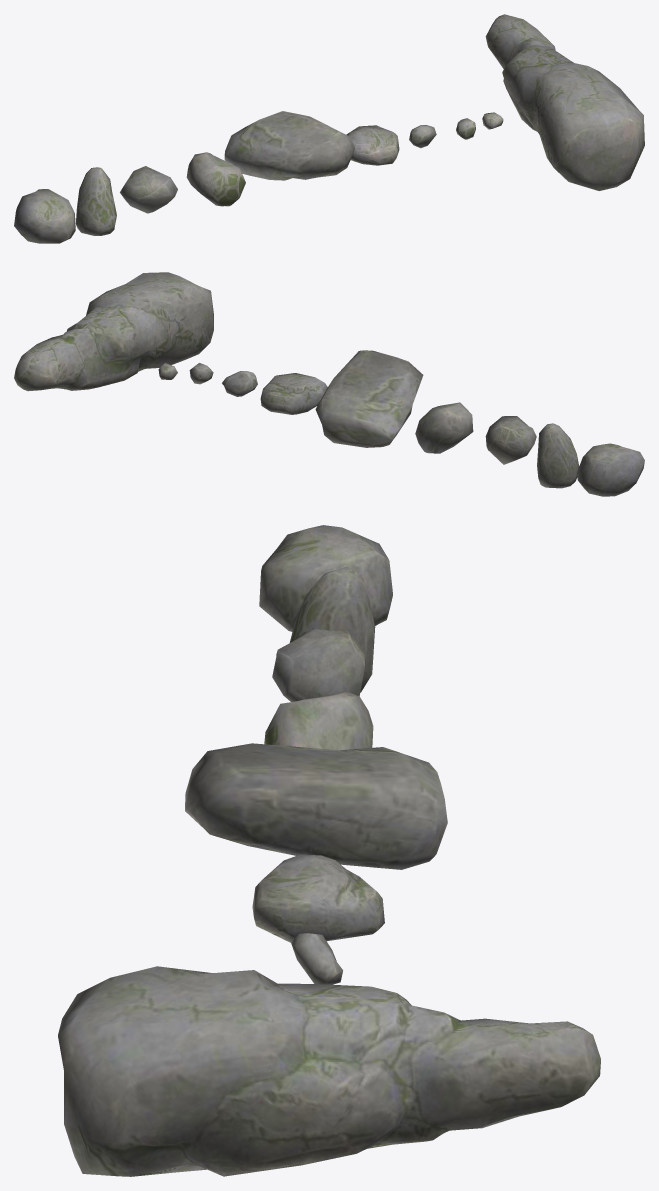
The model's file is p_shitou.fbx.
The picture shows the model from 3 angles, top to bottom: view 1: azimuth 30°, elevation 25°; view 2: azimuth 150°, elevation 25°; view 3: azimuth 270°, elevation 25°; orthographic projection. The views are drawn at different scales.
Parts seen in each view (by area): view 1: p_shitou; view 2: p_shitou; view 3: p_shitou.
Boxes of the visible parts, left/top/right/bottom form: p_shitou: left=14, top=14, right=644, bottom=243; p_shitou: left=14, top=272, right=644, bottom=496; p_shitou: left=58, top=525, right=600, bottom=1176.
Bounding box in the file's own units: 2806 × 430 × 1156.
1 material, 1 textured.
